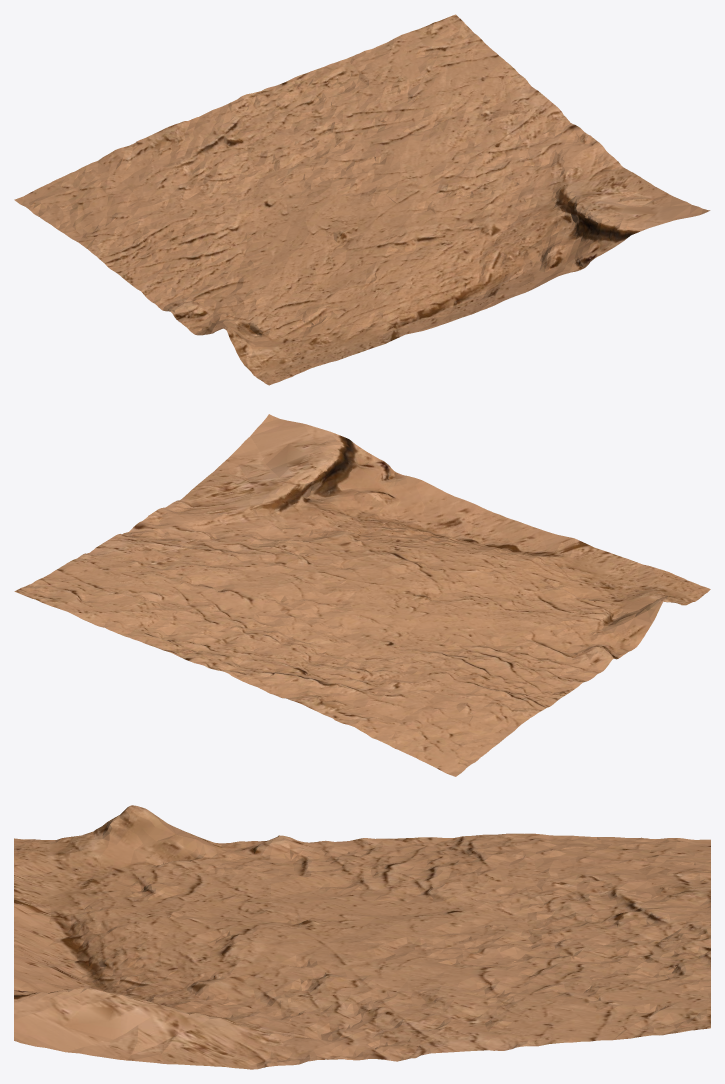
3 views of the same model, one above another, from view 1: azimuth 30°, elevation 25°; view 2: azimuth 150°, elevation 25°; view 3: azimuth 270°, elevation 25° (orthographic). The views are drawn at different scales.
Bounding box in the file's own units: 2.09 × 0.3621 × 2.09.
2 materials, 2 textured.
